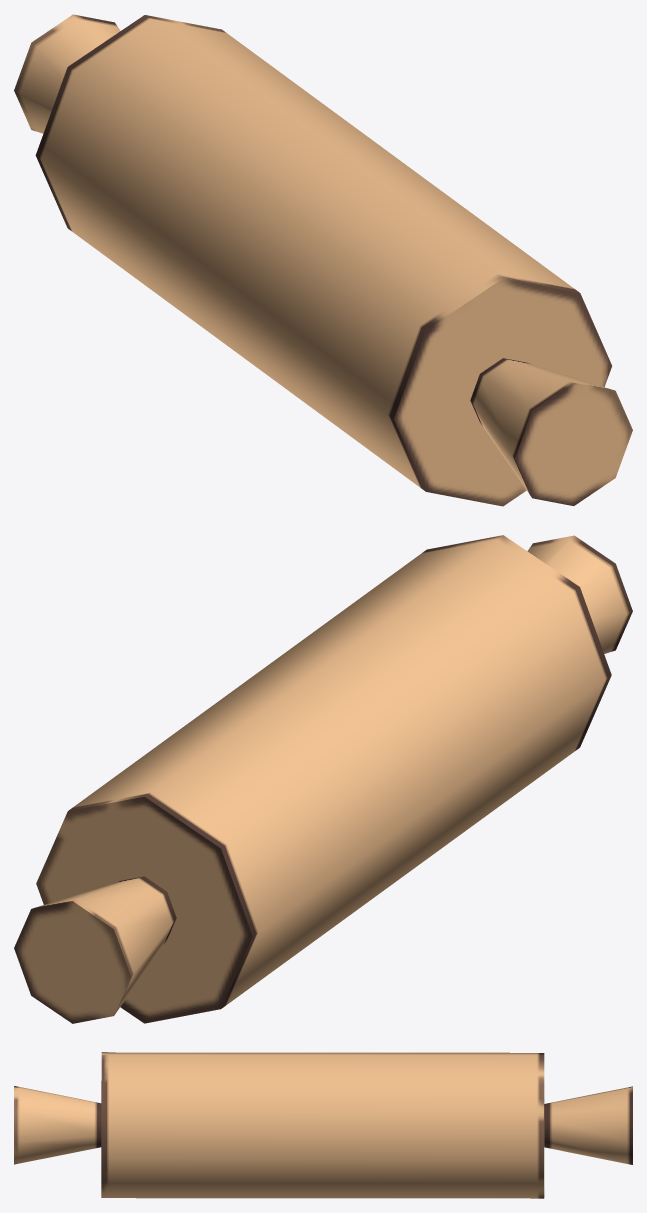
File: Dough_Maker.fbx
The picture shows the model from 3 angles, top to bottom: view 1: azimuth 30°, elevation 25°; view 2: azimuth 150°, elevation 25°; view 3: azimuth 270°, elevation 25°; orthographic projection. The views are drawn at different scales.
Visible parts, largest first — view 1: Dough_Maker; view 2: Dough_Maker; view 3: Dough_Maker.
Part boxes in pixels (<box>): Dough_Maker: <box>14,14,632,506</box>; Dough_Maker: <box>14,535,632,1023</box>; Dough_Maker: <box>14,1052,632,1198</box>.
Size of the model in its own units: 20.16 by 20.04 by 80.04.
Materials: 1 (1 with a texture image).
